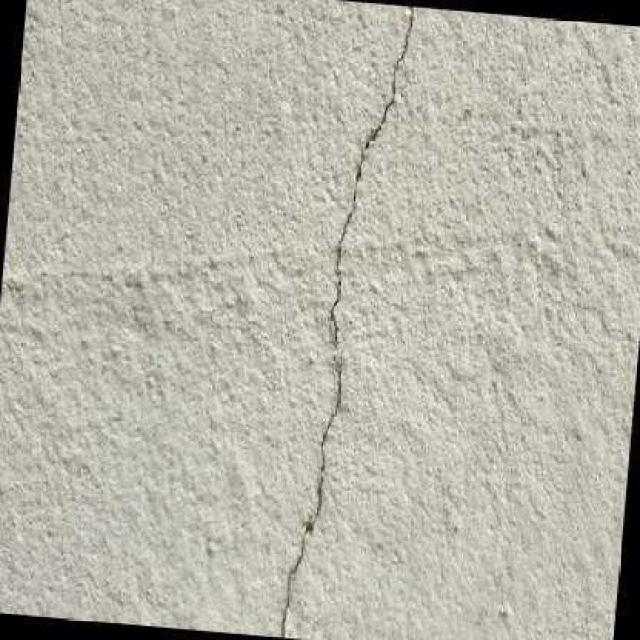D00: (280, 7, 416, 637)
